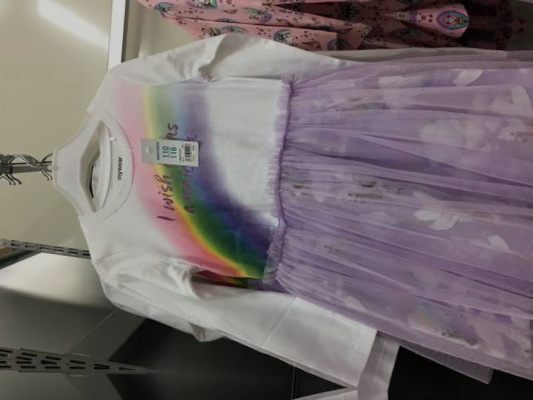Dress: (0, 14, 533, 386), (0, 377, 533, 400), (0, 0, 12, 339), (26, 0, 533, 0)
